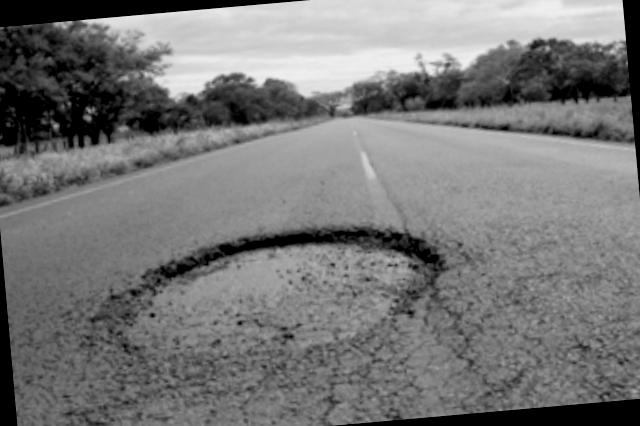Pothole: (93, 218, 458, 380)
